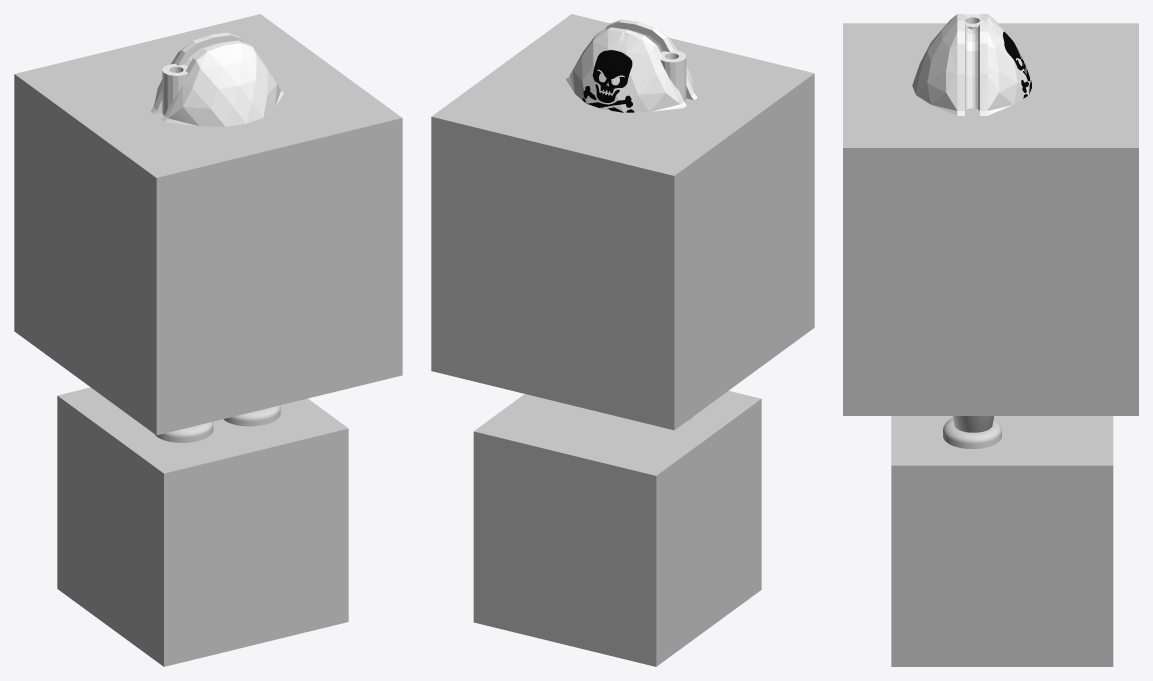
Rendered from Pirate Blender Model.glb.
The picture shows the model from 3 angles, left to right: view 1: azimuth 30°, elevation 25°; view 2: azimuth 150°, elevation 25°; view 3: azimuth 270°, elevation 25°; orthographic projection. The views are drawn at different scales.
Visible parts, largest first — view 1: Cutter Upper Leg, Cutter Lower Leg, Hat, Feet; view 2: Cutter Upper Leg, Cutter Lower Leg, Hat; view 3: Cutter Upper Leg, Cutter Lower Leg, Hat, Feet, Legs.
Boxes of the visible parts, box(x1,y1,x2,y2) form: Cutter Upper Leg: box(14, 14, 402, 435); Cutter Lower Leg: box(57, 387, 348, 666); Hat: box(150, 32, 283, 126); Feet: box(155, 405, 280, 442); Cutter Upper Leg: box(431, 14, 814, 430); Cutter Lower Leg: box(473, 390, 761, 666); Hat: box(566, 19, 697, 112); Cutter Upper Leg: box(843, 23, 1138, 415); Cutter Lower Leg: box(891, 416, 1113, 666); Hat: box(912, 14, 1032, 115); Feet: box(943, 418, 1001, 449); Legs: box(952, 416, 993, 432).
Bounding box in the file's own units: 2.66 × 5.95 × 2.66.
Materials: 5 (5 with a texture image).
